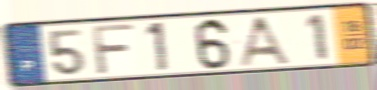1: (144, 20, 170, 74), (304, 13, 332, 62)
5: (45, 27, 89, 77)
6: (192, 16, 232, 71)
A: (235, 14, 293, 68)
F: (90, 22, 138, 77)
